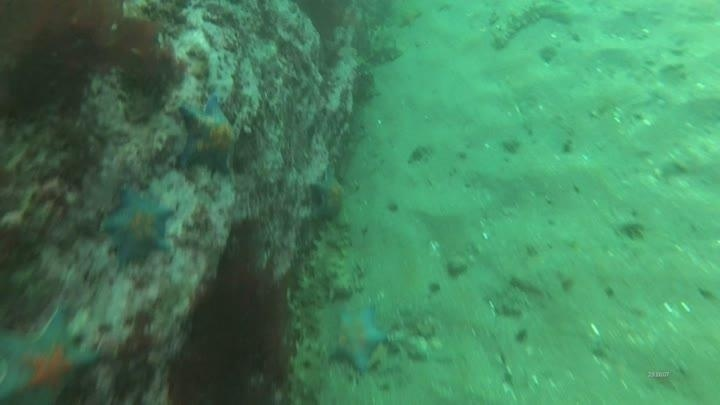holothurian: (486, 1, 567, 53), (308, 218, 358, 301), (286, 337, 330, 404), (353, 22, 407, 68)
starfish: (0, 305, 103, 405), (99, 187, 178, 268), (173, 94, 242, 179), (323, 303, 390, 375), (308, 164, 352, 223)
